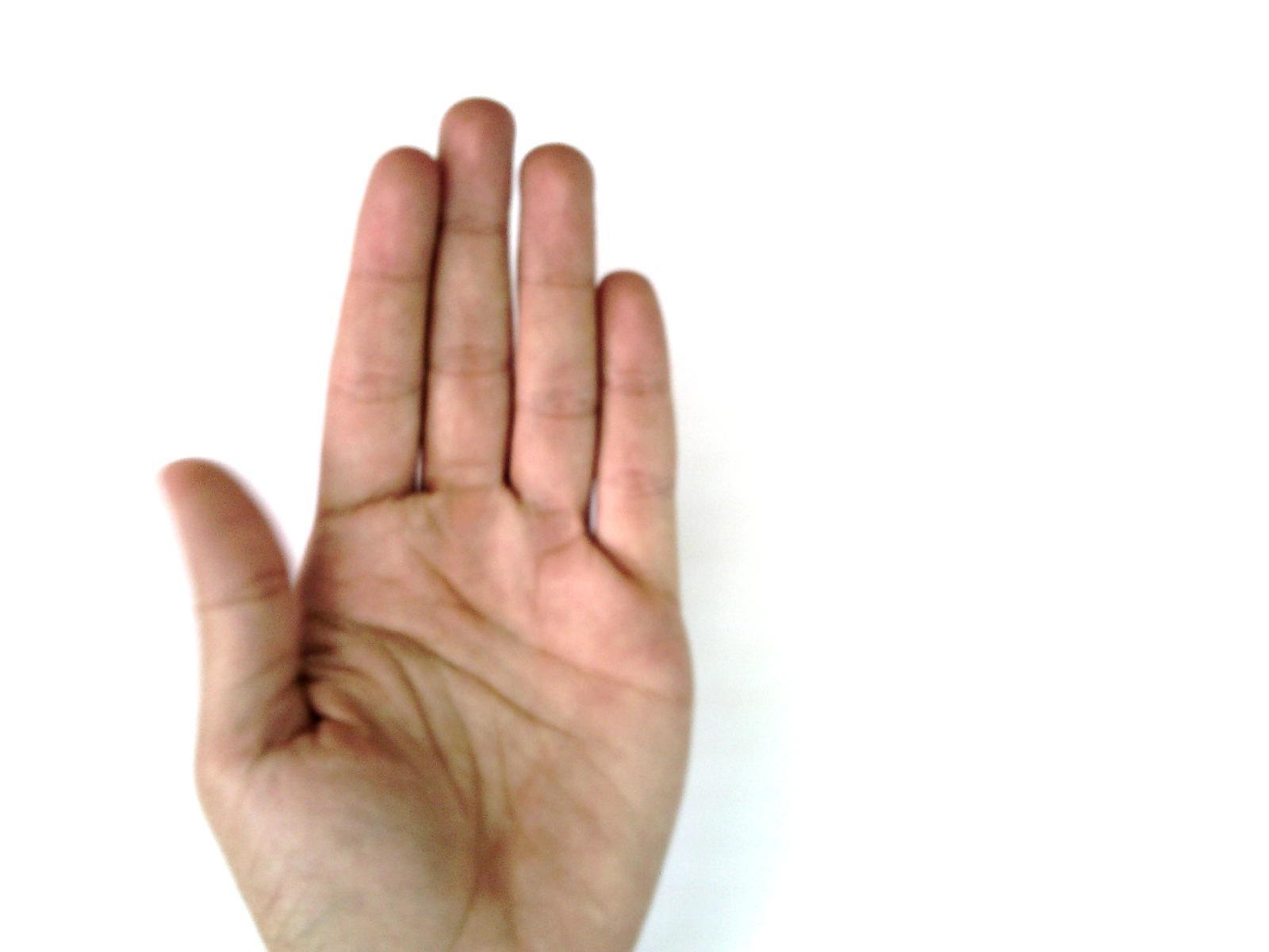open_palm: (157, 96, 700, 951)
